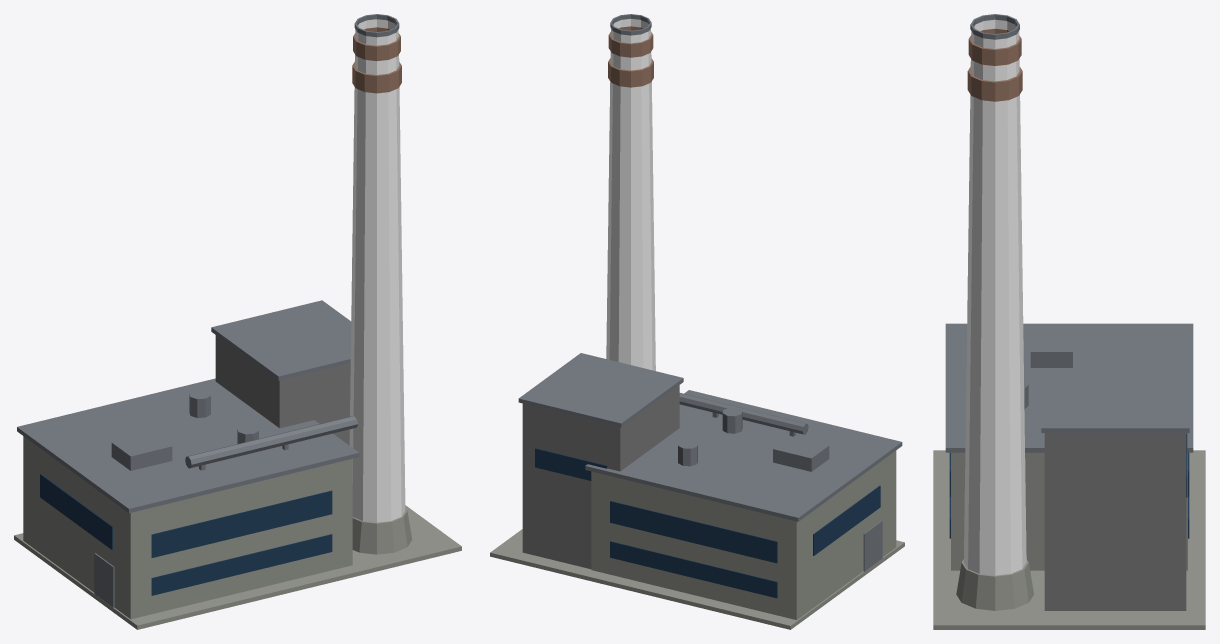
File: mashup-main-mid-prebuilt.fbx
3 renders of one model, left to right at view 1: azimuth 30°, elevation 25°; view 2: azimuth 150°, elevation 25°; view 3: azimuth 270°, elevation 25°, orthographic. The views are drawn at different scales.
Visible parts, largest first — view 1: ChemPlant_BuildingChimney; view 2: ChemPlant_BuildingChimney; view 3: ChemPlant_BuildingChimney.
Part boxes in pixels (box(x1,y1,x2,y2)): ChemPlant_BuildingChimney: box(14, 14, 461, 629); ChemPlant_BuildingChimney: box(490, 14, 904, 629); ChemPlant_BuildingChimney: box(933, 14, 1205, 629).
Bounding box in the file's own units: 23.6 × 35.87 × 15.4.
